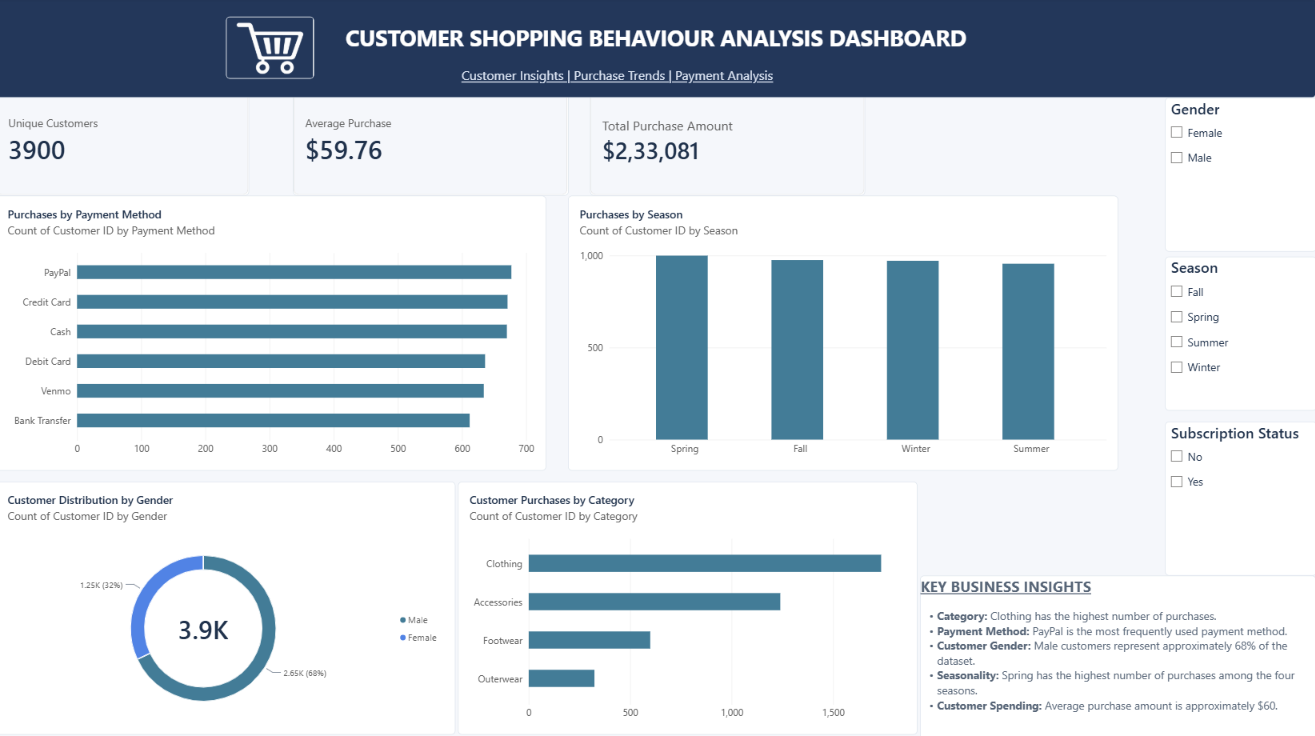

This screenshot's page, from the dashboard's own definition file:
{"tool":"powerbi","page":{"name":"Page 1","canvas":[1920,1080],"ordinal":0},"visuals":[{"type":"clusteredBarChart","title":"Customer Purchases by Category","fields":{"Category":["customer_shopping_cleaned.Category"],"Y":["CountNonNull(customer_shopping_cleaned.Customer ID)"]},"box":[672,704,668,368],"z":0},{"type":"donutChart","title":"Customer Distribution by Gender","fields":{"Category":["customer_shopping_cleaned.Gender"],"Y":["CountNonNull(customer_shopping_cleaned.Customer ID)"]},"box":[0,704,668,368],"z":1000},{"type":"clusteredColumnChart","title":"Purchases by Season","fields":{"Category":["customer_shopping_cleaned.Season"],"Y":["CountNonNull(customer_shopping_cleaned.Customer ID)"]},"box":[831.8,287.5,800,400],"z":2000},{"type":"clusteredBarChart","title":"Purchases by Payment Method","fields":{"Category":["customer_shopping_cleaned.Payment Method"],"Y":["CountNonNull(customer_shopping_cleaned.Customer ID)"]},"box":[0,288,800,400],"z":3000},{"type":"slicer","fields":{"Values":["customer_shopping_cleaned.Gender"]},"box":[1699.7,145.4,221,224],"z":4000},{"type":"slicer","fields":{"Values":["customer_shopping_cleaned.Season"]},"box":[1699.7,376.6,221,224],"z":5000},{"type":"slicer","fields":{"Values":["customer_shopping_cleaned.Subscription Status"]},"box":[1699.7,616.5,221,224],"z":6000},{"type":"cardVisual","fields":{"Data":["customer_shopping_cleaned.Average Purchase"]},"box":[432,128,400.9,160],"z":7000},{"type":"cardVisual","fields":{"Data":["customer_shopping_cleaned.Unique Customers"]},"box":[0,128,368,160],"z":8000},{"type":"cardVisual","fields":{"Data":["customer_shopping_cleaned.Total Purchase Amount"]},"box":[864.1,127.6,400,160],"z":9000},{"type":"textbox","box":[0,0,1919.2,145.4],"z":11500},{"type":"image","box":[334.4,27.6,127.6,90.7],"z":12000},{"type":"textbox","box":[1344,840,576,240],"z":12500},{"type":"textbox","box":[668.8,100.7,468.9,63],"z":13000}]}

Visuals, with their boxes in screenshot pixels (x1, y1, x2, y2), scaled from the page's 1920x1080 canvas onto the 1315x736 screenshot:
"Customer Purchases by Category" clusteredBarChart: (460,480,918,731)
"Customer Distribution by Gender" donutChart: (0,480,458,731)
"Purchases by Season" clusteredColumnChart: (570,196,1118,469)
"Purchases by Payment Method" clusteredBarChart: (0,196,548,469)
slicer - customer_shopping_cleaned.Gender: (1164,99,1314,252)
slicer - customer_shopping_cleaned.Season: (1164,257,1314,409)
slicer - customer_shopping_cleaned.Subscription Status: (1164,420,1314,573)
cardVisual - customer_shopping_cleaned.Average Purchase: (296,87,570,196)
cardVisual - customer_shopping_cleaned.Unique Customers: (0,87,252,196)
cardVisual - customer_shopping_cleaned.Total Purchase Amount: (592,87,866,196)
textbox: (0,0,1314,99)
image: (229,19,316,81)
textbox: (920,572,1314,735)
textbox: (458,69,779,112)
